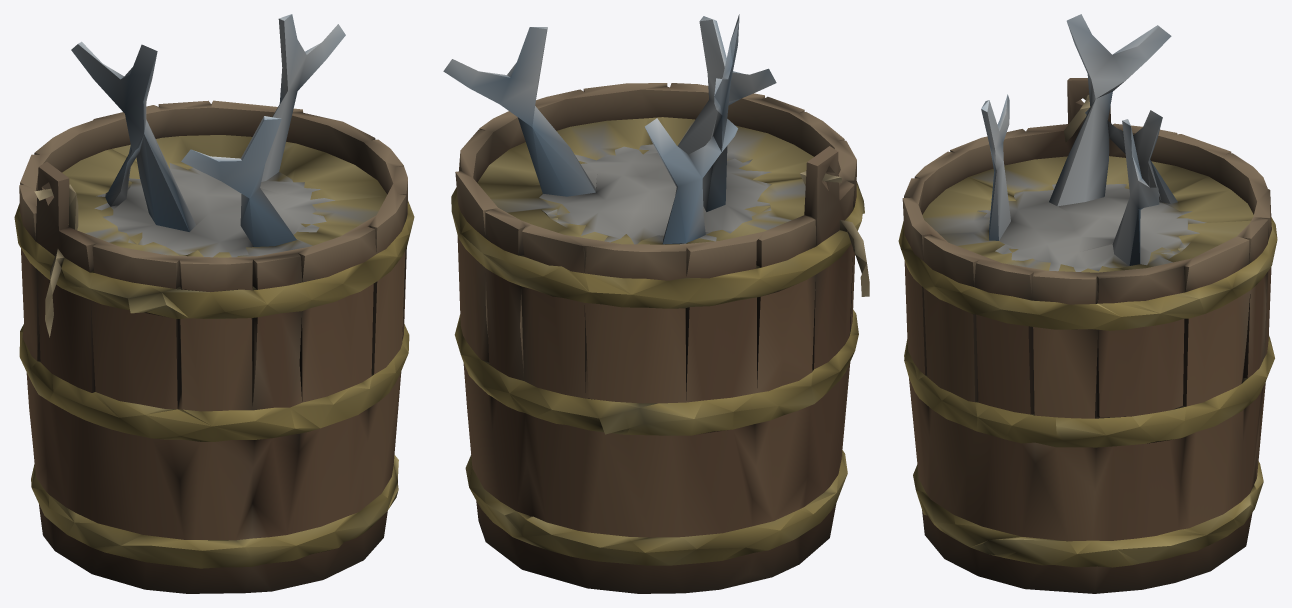
The model's file is barrel_fish.glb.
3 views of the same model, side by side, from view 1: azimuth 30°, elevation 25°; view 2: azimuth 150°, elevation 25°; view 3: azimuth 270°, elevation 25° (orthographic). The views are drawn at different scales.
Parts seen in each view (by area): view 1: barrel_fish_LOD0; view 2: barrel_fish_LOD0; view 3: barrel_fish_LOD0.
Part boxes in pixels (x1,y1,x2,y2): barrel_fish_LOD0: [14, 14, 414, 593]; barrel_fish_LOD0: [443, 14, 869, 593]; barrel_fish_LOD0: [898, 14, 1277, 593].
Size of what is drawn, in the model's own units: 0.6669 by 0.8886 by 0.6422.
